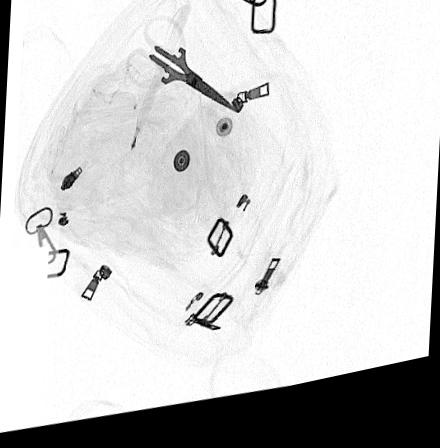Scissors: (124, 20, 238, 123)
